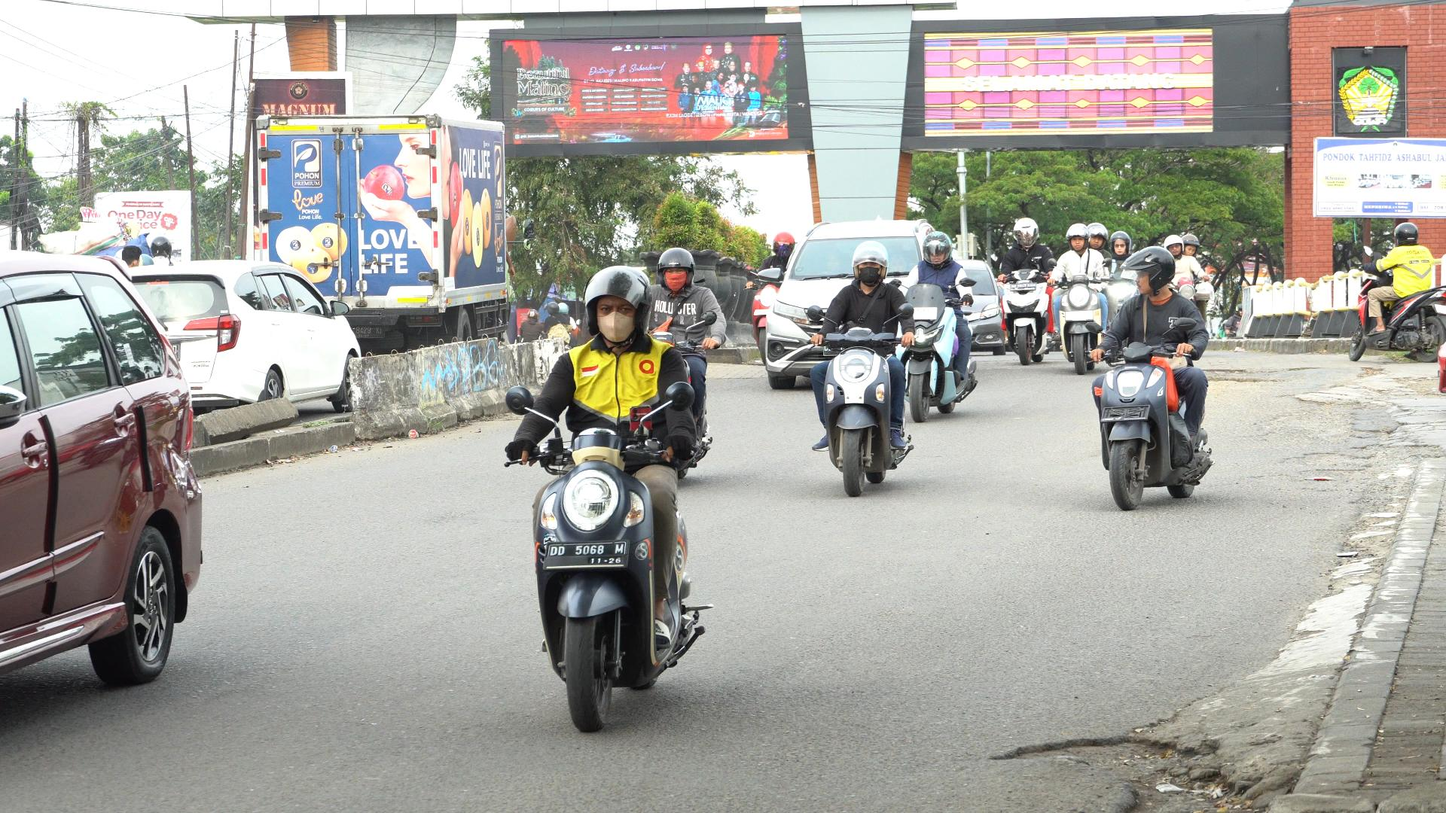number-plate: (539, 541, 629, 572)
